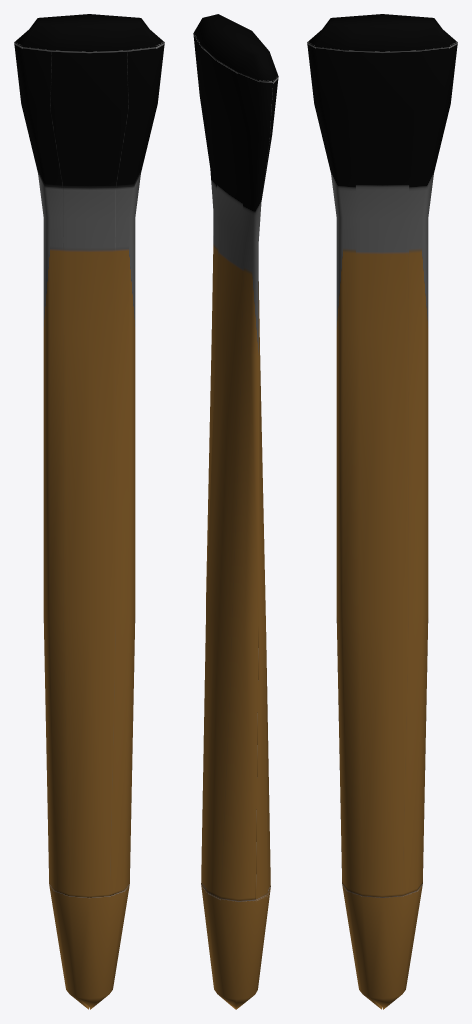
File: SmallPaintBrush.fbx
3 renders of one model, left to right at view 1: azimuth 90°, elevation 25°; view 2: azimuth 210°, elevation 25°; view 3: azimuth 270°, elevation 25°, orthographic.
Parts seen in each view (by area): view 1: SmallPaintBrush; view 2: SmallPaintBrush; view 3: SmallPaintBrush.
Boxes of the visible parts, box(x1,y1,x2,y2) form: SmallPaintBrush: box(14, 14, 164, 1009); SmallPaintBrush: box(193, 14, 278, 1009); SmallPaintBrush: box(307, 14, 457, 1009).
Bounding box in the file's own units: 0.0133 × 0.2166 × 0.0299.
